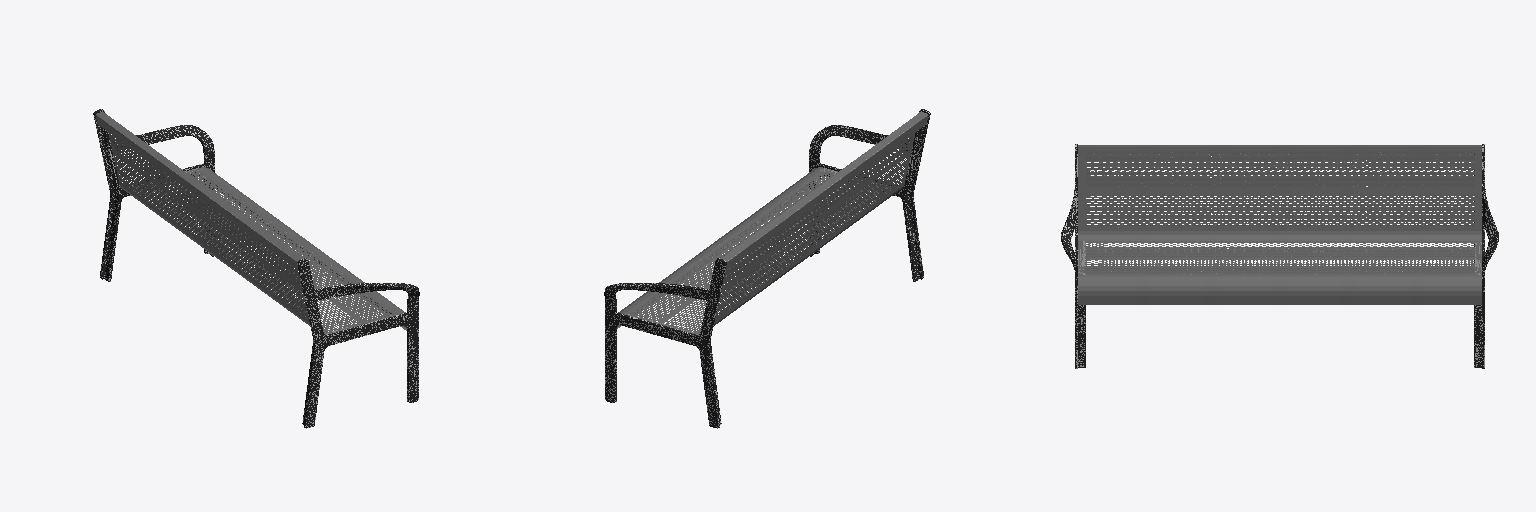
The picture shows the model from 3 angles: view 1: azimuth 30°, elevation 25°; view 2: azimuth 150°, elevation 25°; view 3: azimuth 270°, elevation 25°; orthographic projection.
Visible parts, largest first — view 1: mesh1.001_mesh1-geometry, mesh3.001_mesh3-geometry, mesh4.001_mesh4-geometry; view 2: mesh1.001_mesh1-geometry, mesh4.001_mesh4-geometry, mesh3.001_mesh3-geometry; view 3: mesh1.001_mesh1-geometry, mesh4.001_mesh4-geometry, mesh3.001_mesh3-geometry.
Boxes of the visible parts, <box> form: mesh1.001_mesh1-geometry: <box>95,111,406,334</box>; mesh3.001_mesh3-geometry: <box>297,258,419,428</box>; mesh4.001_mesh4-geometry: <box>93,109,214,281</box>; mesh1.001_mesh1-geometry: <box>617,111,928,334</box>; mesh4.001_mesh4-geometry: <box>604,258,726,428</box>; mesh3.001_mesh3-geometry: <box>809,109,930,281</box>; mesh1.001_mesh1-geometry: <box>1078,145,1481,304</box>; mesh4.001_mesh4-geometry: <box>1474,144,1498,368</box>; mesh3.001_mesh3-geometry: <box>1061,144,1085,368</box>.
Size of the model in its own units: 0.2796 by 0.3775 by 0.8828.
6 materials, 2 textured.